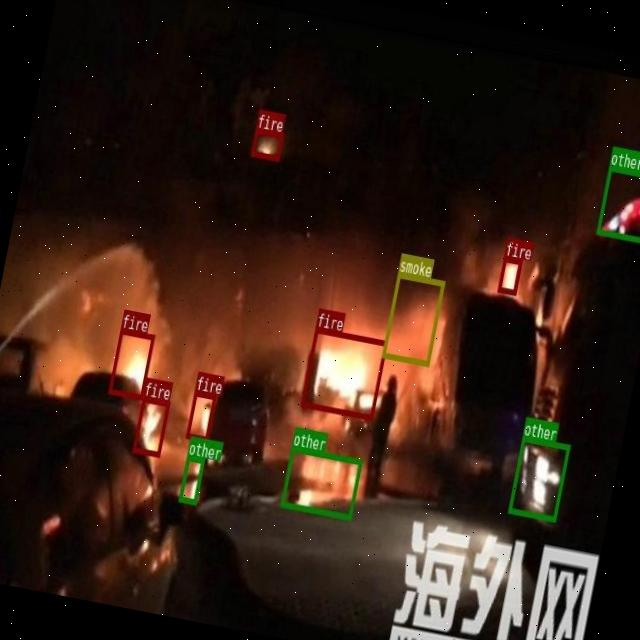fire: (300, 328, 387, 420), (108, 328, 155, 399), (132, 396, 170, 456), (185, 391, 216, 442), (250, 128, 283, 160), (497, 255, 522, 294)
smoke: (381, 270, 445, 366)
